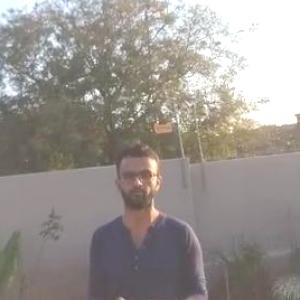follow: (83, 139, 217, 299)
